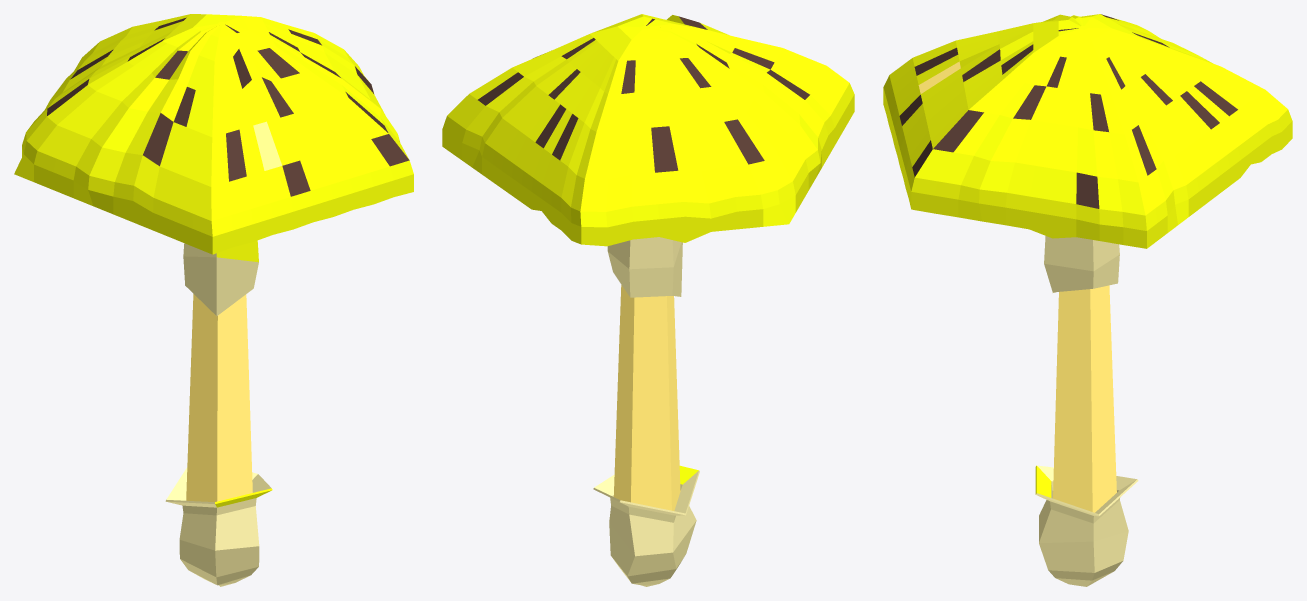
File: deathcapteest.fbx
3 renders of one model, left to right at view 1: azimuth 30°, elevation 25°; view 2: azimuth 150°, elevation 25°; view 3: azimuth 270°, elevation 25°, orthographic.
Visible parts, largest first — view 1: deathcap; view 2: deathcap; view 3: deathcap.
Part boxes in pixels (x1=…): deathcap: x1=14, y1=14, x2=413, y2=586; deathcap: x1=442, y1=14, x2=854, y2=586; deathcap: x1=883, y1=14, x2=1292, y2=586.
Bounding box in the file's own units: 72.25 × 111 × 73.73.
